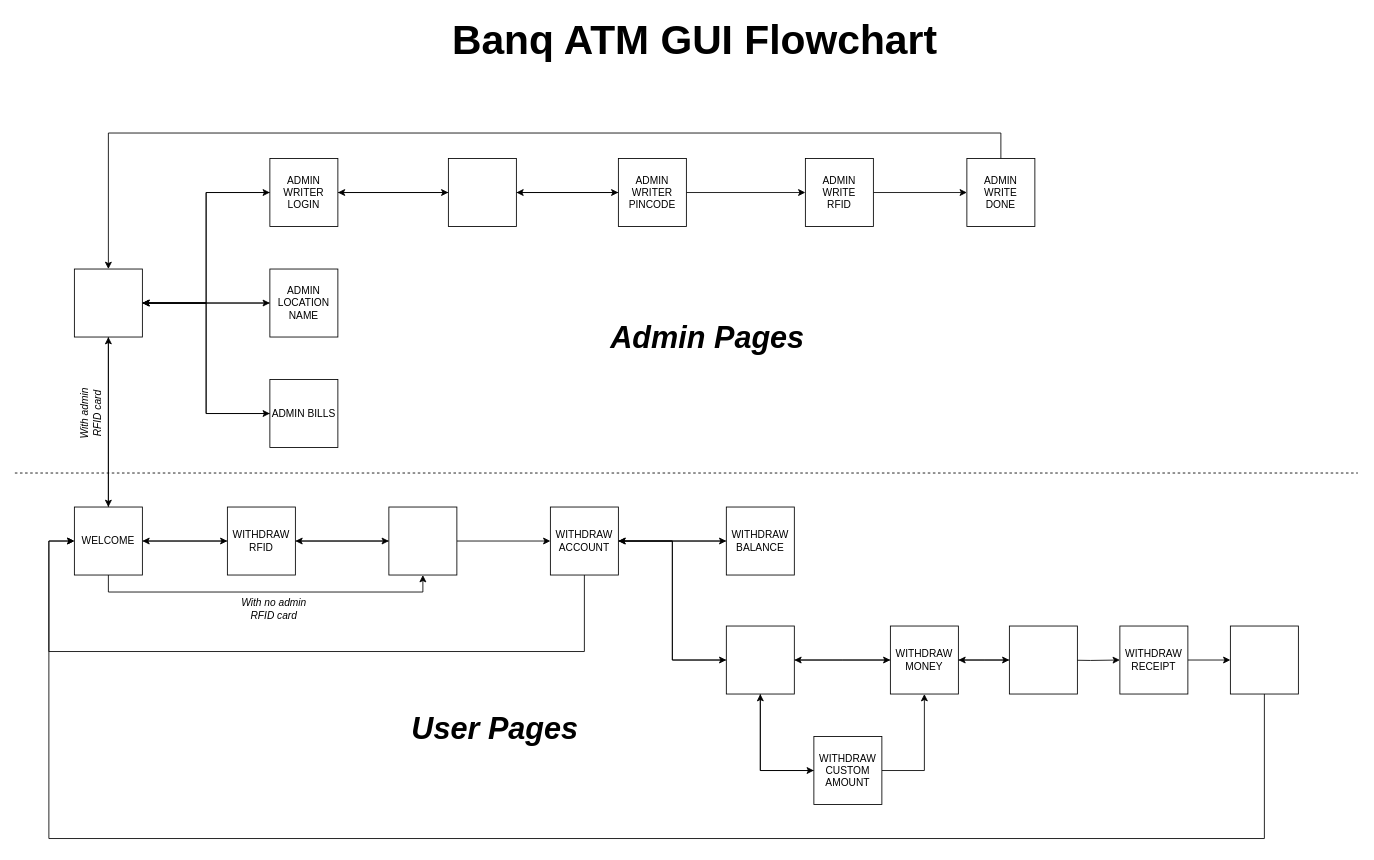
The diagram is 1374 pixels wide and 860 high, and some of its shapes have lost their labels. Each missing label, with the centre of its shape:
"ADMIN MENU" belongs at point (108, 302).
"ADMIN WRITER ACCOUNTS" belongs at point (482, 192).
"WITHDRAW AMOUNT" belongs at point (759, 659).
"WITHDRAW CONFIRM" belongs at point (1043, 659).
"WITHDRAW DONE" belongs at point (1264, 659).
"WITHDRAW PINCODE" belongs at point (422, 540).
